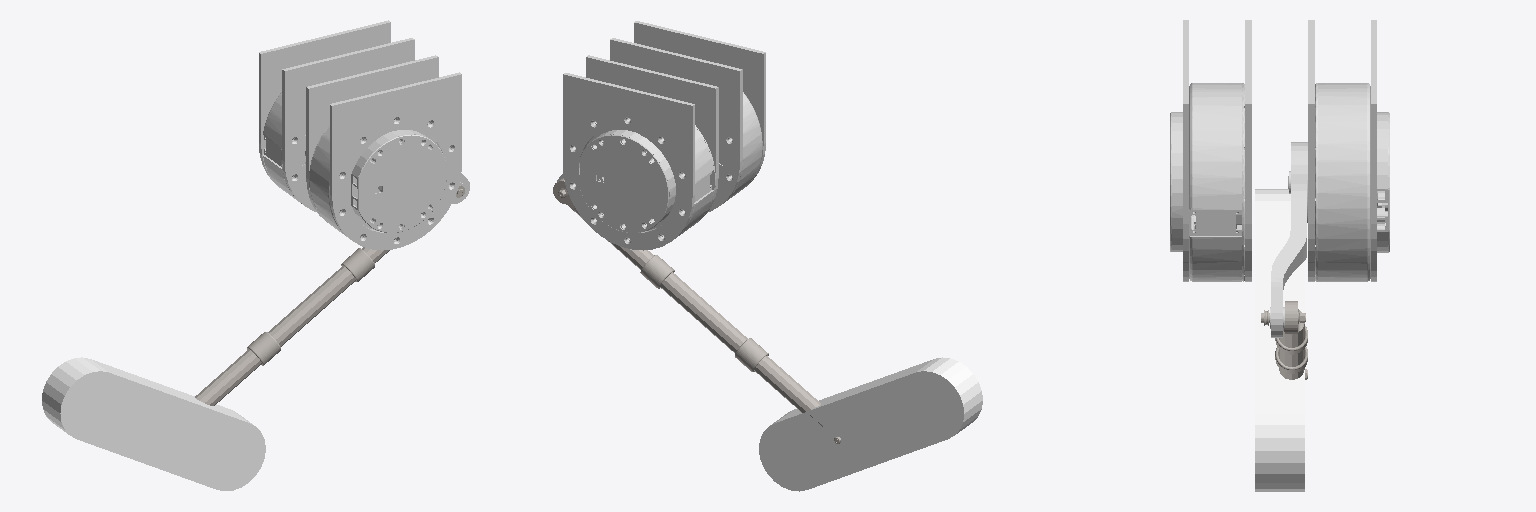
URDF robot description (flyhopper_robot):
<?xml version="1.0" encoding="utf-8"?>
<!-- This URDF was automatically created by SolidWorks to URDF Exporter! Originally created by [author] ([email redacted]) 
     Commit Version: 1.5.1-0-g916b5db  Build Version: 1.5.7152.31018
     For more information, please see http://wiki.ros.org/sw_urdf_exporter -->
<robot
  name="flyhopper_robot">
  <link
    name="base_link">
    <inertial>
      <origin
        xyz="-1.5589E-15 -8.0444E-16 0.0039379"
        rpy="0 0 0" />
      <mass
        value="7" />
      <inertia
        ixx="0.0024241"
        ixy="5.252E-06"
        ixz="2.0733E-19"
        iyy="0.0044176"
        iyz="-3.1153E-19"
        izz="0.0022481" />
    </inertial>
    <visual>
      <origin
        xyz="0 0 0"
        rpy="0 0 0" />
      <geometry>
        <mesh
          filename="package://flyhopper_robot/meshes/base_link.STL" />
      </geometry>
      <material
        name="">
        <color
          rgba="0.89804 0.89804 0.89804 1" />
      </material>
    </visual>
    <collision>
      <origin
        xyz="0 0 0"
        rpy="0 0 0" />
      <geometry>
        <mesh
          filename="package://flyhopper_robot/meshes/base_link.STL" />
      </geometry>
    </collision>
  </link>
  <link
    name="Link 0">
    <inertial>
      <origin
        xyz="0.0125108364230515 0.0182983605546842 0.00117191218927888"
        rpy="0 0 0" />
      <mass
        value="0.24644240965487" />
      <inertia
        ixx="3.83120149546952E-05"
        ixy="1.46925714738609E-05"
        ixz="-8.60106401672571E-06"
        iyy="0.000172067745507247"
        iyz="1.0427260925207E-06"
        izz="0.00014745218068435" />
    </inertial>
    <visual>
      <origin
        xyz="0 0 0"
        rpy="0 0 0" />
      <geometry>
        <mesh
          filename="package://flyhopper_robot/meshes/Link 0.STL" />
      </geometry>
      <material
        name="">
        <color
          rgba="0.898039215686275 0.898039215686275 0.898039215686275 1" />
      </material>
    </visual>
    <collision>
      <origin
        xyz="0 0 0"
        rpy="0 0 0" />
      <geometry>
        <mesh
          filename="package://flyhopper_robot/meshes/Link 0.STL" />
      </geometry>
    </collision>
  </link>
  <joint
    name="Joint 0"
    type="revolute">
    <origin
      xyz="0 0 0"
      rpy="0 0.5236 0" />
    <parent
      link="base_link" />
    <child
      link="Link 0" />
    <axis
      xyz="0 -1 0" />
    <limit
      lower="-3.14"
      upper="3.14"
      effort="0"
      velocity="0" />
  </joint>
  <link
    name="Link 1">
    <inertial>
      <origin
        xyz="0.149359714867044 0.00668699341343205 -8.64184791782296E-09"
        rpy="0 0 0" />
      <mass
        value="0.0707939028219395" />
      <inertia
        ixx="3.06999775886187E-06"
        ixy="7.91090301514898E-12"
        ixz="-1.43705963146176E-12"
        iyy="0.000147960574744097"
        iyz="1.30742394049546E-11"
        izz="0.000147884231885009" />
    </inertial>
    <visual>
      <origin
        xyz="0 0 0"
        rpy="0 0 0" />
      <geometry>
        <mesh
          filename="package://flyhopper_robot/meshes/Link 1.STL" />
      </geometry>
      <material
        name="">
        <color
          rgba="0.776470588235294 0.756862745098039 0.737254901960784 1" />
      </material>
    </visual>
    <collision>
      <origin
        xyz="0 0 0"
        rpy="0 0 0" />
      <geometry>
        <mesh
          filename="package://flyhopper_robot/meshes/Link 1.STL" />
      </geometry>
    </collision>
  </link>
  <joint
    name="Joint 1"
    type="revolute">
    <origin
      xyz="0.1 0 0"
      rpy="-3.1416 1.0739 -3.1416" />
    <parent
      link="Link 0" />
    <child
      link="Link 1" />
    <axis
      xyz="0 -1 0" />
    <limit
      lower="-0.7597"
      upper="1.823"
      effort="0"
      velocity="0" />
  </joint>
  <link
    name="Link 2">
    <inertial>
      <origin
        xyz="0.0469412900551914 -0.0169660102564163 -0.000869831686102471"
        rpy="0 0 0" />
      <mass
        value="0.276735496985514" />
      <inertia
        ixx="3.43038397803592E-05"
        ixy="-2.90339844227483E-07"
        ixz="6.18680397558952E-06"
        iyy="0.000302324068012293"
        iyz="2.25016327583562E-08"
        izz="0.00028292376778719" />
    </inertial>
    <visual>
      <origin
        xyz="0 0 0"
        rpy="0 0 0" />
      <geometry>
        <mesh
          filename="package://flyhopper_robot/meshes/Link 2.STL" />
      </geometry>
      <material
        name="">
        <color
          rgba="0.898039215686275 0.898039215686275 0.898039215686275 1" />
      </material>
    </visual>
    <collision>
      <origin
        xyz="0 0 0"
        rpy="0 0 0" />
      <geometry>
        <mesh
          filename="package://flyhopper_robot/meshes/Link 2.STL" />
      </geometry>
    </collision>
  </link>
  <joint
    name="Joint 2"
    type="revolute">
    <origin
      xyz="0 0 0"
      rpy="3.1416 0.55027 3.1416" />
    <parent
      link="base_link" />
    <child
      link="Link 2" />
    <axis
      xyz="0 -1 0" />
    <limit
      lower="-3.14"
      upper="3.14"
      effort="0"
      velocity="0" />
  </joint>
  <link
    name="Link 3">
    <inertial>
      <origin
        xyz="0.113177000131857 -0.00273485454367594 -0.015332867880069"
        rpy="0 0 0" />
      <mass
        value="0.130824780046739" />
      <inertia
        ixx="1.76996970020568E-05"
        ixy="-5.3695427116208E-07"
        ixz="7.62350214406387E-07"
        iyy="0.000164188445564489"
        iyz="-2.77843753828047E-07"
        izz="0.000160656046697151" />
    </inertial>
    <visual>
      <origin
        xyz="0 0 0"
        rpy="0 0 0" />
      <geometry>
        <mesh
          filename="package://flyhopper_robot/meshes/Link 3.STL" />
      </geometry>
      <material
        name="">
        <color
          rgba="1 1 1 1" />
      </material>
    </visual>
    <collision>
      <origin
        xyz="0 0 0"
        rpy="0 0 0" />
      <geometry>
        <mesh
          filename="package://flyhopper_robot/meshes/Link 3.STL" />
      </geometry>
    </collision>
  </link>
  <joint
    name="Joint 3"
    type="revolute">
    <origin
      xyz="0.3 0 0"
      rpy="-3.1416 -1.0739 3.1416" />
    <parent
      link="Link 2" />
    <child
      link="Link 3" />
    <axis
      xyz="0 -1 0" />
    <limit
      lower="-1.823"
      upper="0.7597"
      effort="0"
      velocity="0" />
  </joint>
</robot>

--- Facts derived from the render (not from the file) ---
Views: 3 orthographic renders of the robot side by side, from view 1: azimuth 30°, elevation 25°; view 2: azimuth 150°, elevation 25°; view 3: azimuth 270°, elevation 25°.
Robot: flyhopper_robot — 5 links, 4 joints (4 revolute); root link base_link; default pose: every joint at zero.
Links seen in each view (by area): view 1: base_link, Link 3, Link 1; view 2: base_link, Link 3, Link 1; view 3: base_link, Link 3, Link 0, Link 1.
Link boxes in pixels (box(x1,y1,x2,y2)): base_link: box(259, 20, 461, 250); Link 3: box(42, 357, 265, 490); Link 1: box(195, 185, 464, 405); base_link: box(563, 21, 765, 250); Link 3: box(759, 357, 982, 491); Link 1: box(553, 178, 840, 443); base_link: box(1170, 20, 1389, 281); Link 3: box(1255, 189, 1304, 491); Link 0: box(1270, 142, 1307, 337); Link 1: box(1261, 301, 1307, 379).
Bounding box of the posed robot: 0.3843 × 0.1326 × 0.3419 m (x, y, z).
Meshes: 5 distinct files referenced, 4 mesh visuals loaded (4 binary STL); not drawn: 1 (reference not matched to a file when rendering).